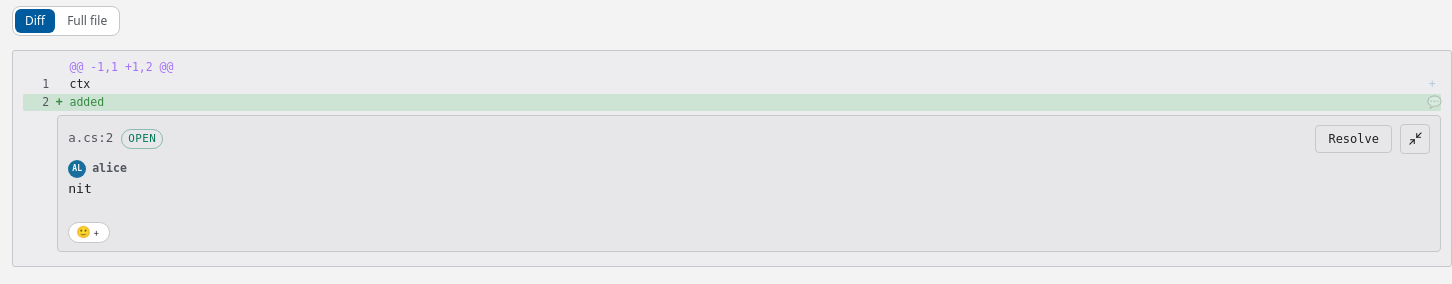
Test case: CommentableDiff › minimizes an inline thread to an author avatar bubble and expands it back
Click the button named "Minimize comment" at (1415, 139), box [1400, 124, 1430, 154]
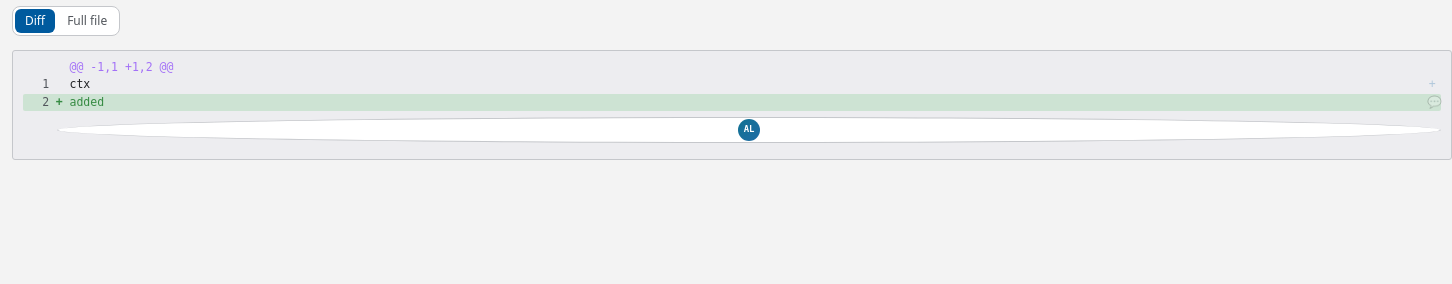
Result: the text "a.cs:2" is gone
Click the button with aria-label "Expand comment from alice" at (749, 130), box [57, 117, 1441, 143]
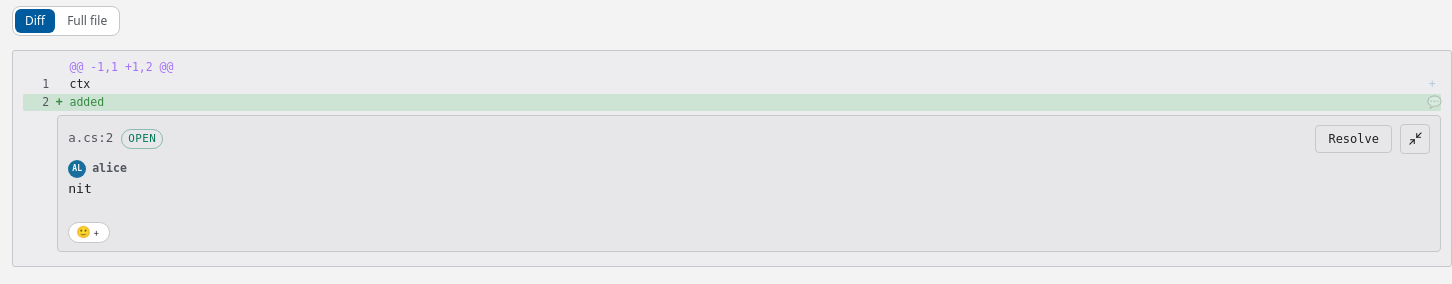
Result: the text "a.cs:2" is shown at [68, 129, 113, 148]
